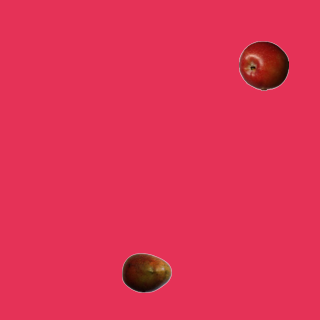Apple Braeburn: (238, 40, 288, 90)
Mango Red: (121, 247, 171, 297)
